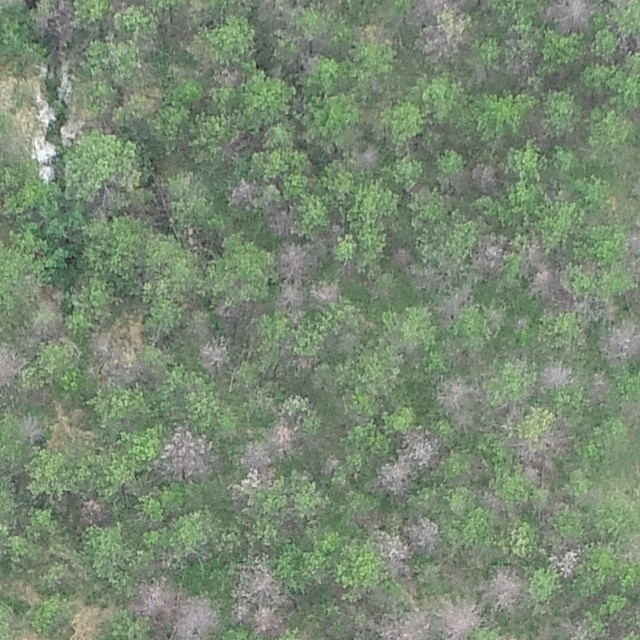unhealthy: (234, 563, 290, 633), (156, 428, 220, 483), (511, 429, 568, 486), (89, 318, 143, 378), (172, 592, 222, 639), (437, 376, 477, 431), (481, 564, 527, 610), (124, 575, 173, 616), (29, 0, 74, 44), (418, 19, 466, 60), (436, 597, 483, 638), (397, 427, 443, 468), (604, 319, 640, 365), (470, 233, 509, 275), (274, 240, 313, 279), (544, 0, 594, 30), (382, 609, 432, 639), (409, 515, 446, 552), (434, 289, 474, 323), (377, 459, 413, 496), (237, 439, 275, 472), (0, 342, 28, 385), (373, 530, 410, 561), (26, 315, 65, 344), (549, 545, 582, 579), (88, 182, 120, 217), (199, 339, 228, 376), (526, 265, 557, 299), (539, 361, 575, 390), (407, 0, 464, 18), (266, 205, 297, 238), (409, 264, 445, 292), (274, 420, 302, 456), (355, 22, 396, 46), (507, 53, 537, 85), (221, 131, 254, 160), (476, 487, 508, 516), (277, 283, 307, 313), (470, 161, 501, 190), (79, 495, 109, 524), (227, 179, 257, 208), (587, 369, 612, 402), (624, 224, 640, 275), (34, 283, 63, 311), (521, 236, 546, 268), (352, 507, 383, 532), (353, 144, 381, 171), (18, 414, 45, 442), (311, 279, 341, 304), (560, 616, 591, 639), (498, 399, 525, 425), (215, 64, 244, 87), (445, 169, 470, 194), (619, 400, 640, 427), (390, 246, 413, 269), (321, 453, 343, 474), (326, 217, 346, 238), (532, 623, 551, 640)
